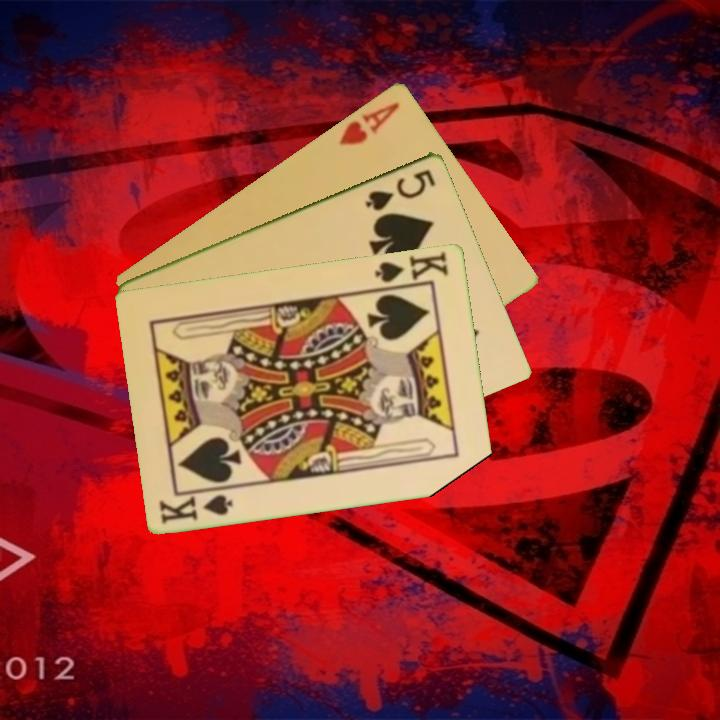5s: (361, 165, 439, 214)
Ah: (335, 98, 403, 148)
Ks: (371, 247, 452, 285), (156, 490, 236, 526)
